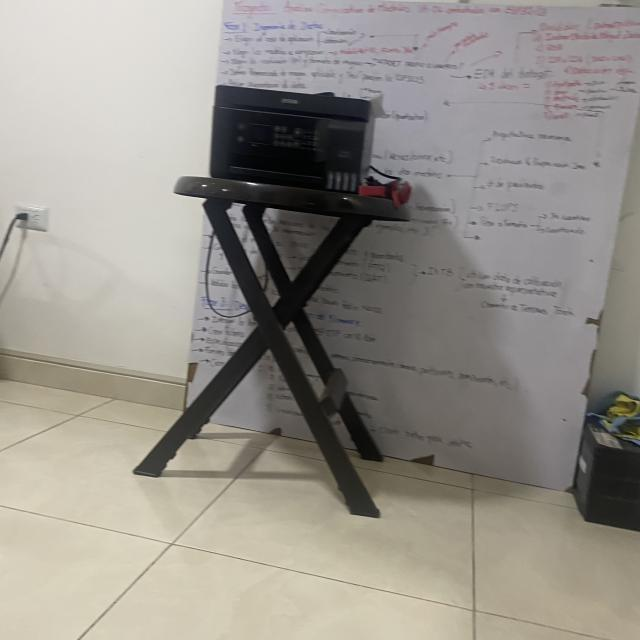obstacle: (117, 85, 426, 519), (563, 391, 640, 528)
